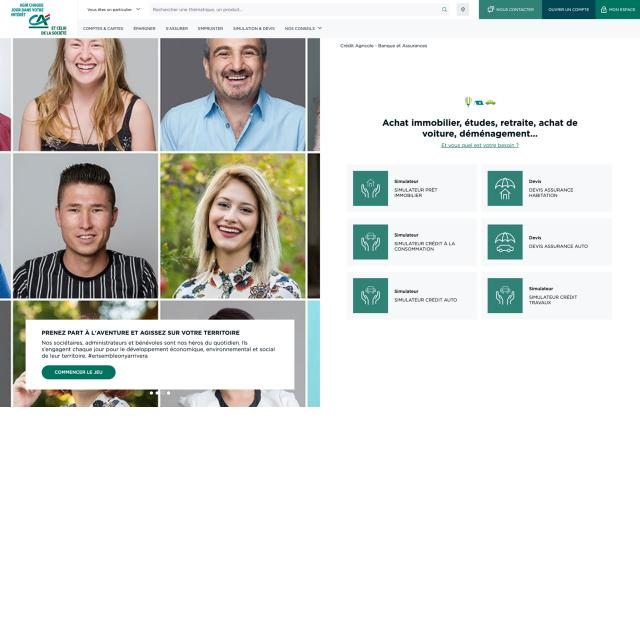input: (148, 4, 452, 16)
logo: (4, 0, 71, 37)
navigation: (81, 23, 328, 34)
